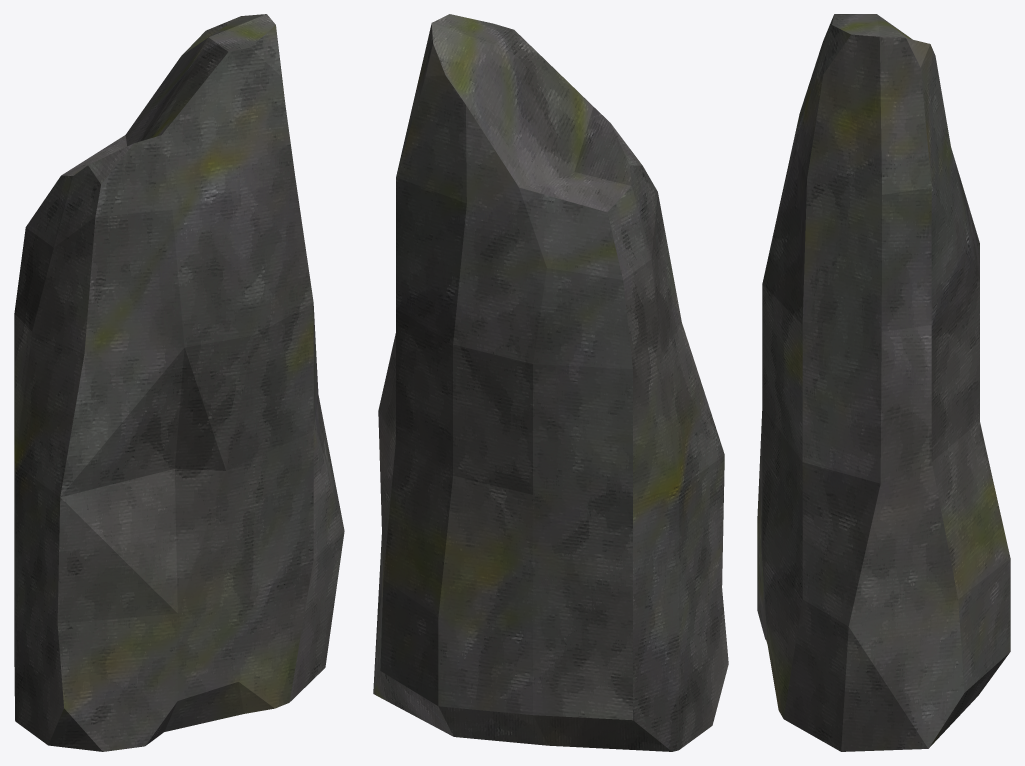
Rendered from 장애물_바위대 2.fbx.
3 views of the same model, side by side, from view 1: azimuth 30°, elevation 25°; view 2: azimuth 150°, elevation 25°; view 3: azimuth 270°, elevation 25° (orthographic). The views are drawn at different scales.
Parts seen in each view (by area): view 1: 바위대 2; view 2: 바위대 2; view 3: 바위대 2.
Part boxes in pixels (bbox=[...]): 바위대 2: bbox=[14, 14, 344, 751]; 바위대 2: bbox=[373, 14, 728, 751]; 바위대 2: bbox=[757, 14, 1010, 751].
Bounding box in the file's own units: 149 × 299 × 98.75.
